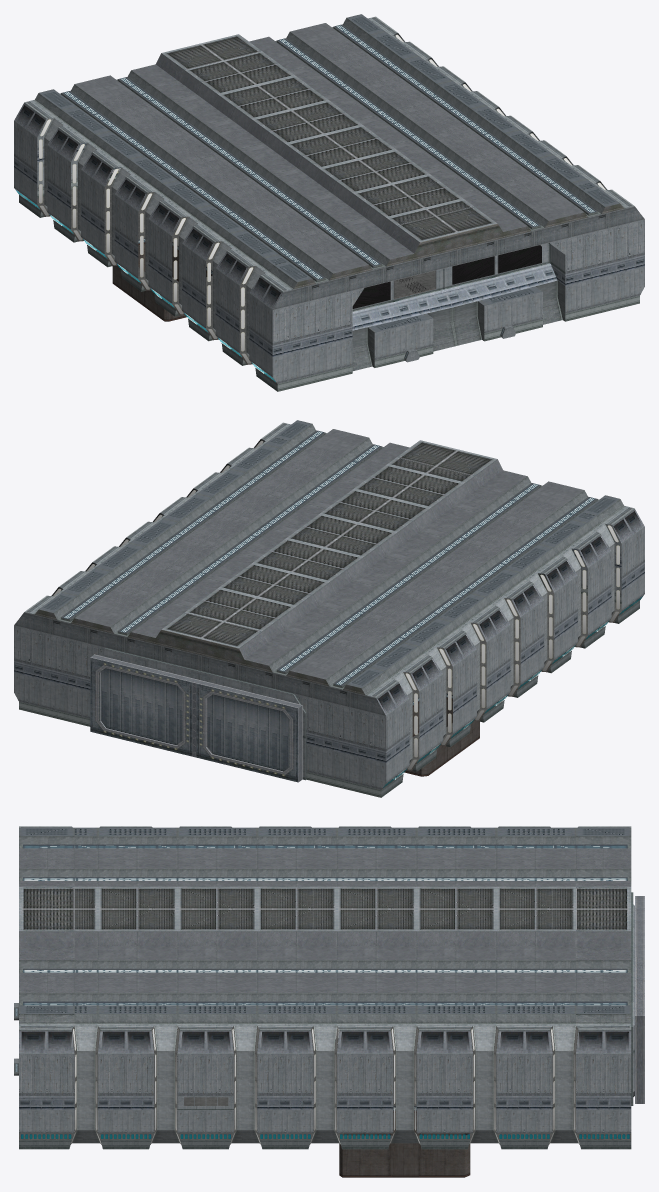
File: thm_newbie_hall_r12_mesh_r12.fbx
The picture shows the model from 3 angles, top to bottom: view 1: azimuth 30°, elevation 25°; view 2: azimuth 150°, elevation 25°; view 3: azimuth 270°, elevation 25°; orthographic projection. The views are drawn at different scales.
Parts seen in each view (by area): view 1: mesh_node; view 2: mesh_node; view 3: mesh_node.
Part boxes in pixels (bbox=[...]): mesh_node: bbox=[14, 14, 644, 391]; mesh_node: bbox=[14, 420, 644, 797]; mesh_node: bbox=[14, 826, 644, 1177].
Size of the model in its own units: 197 by 75.88 by 245.
